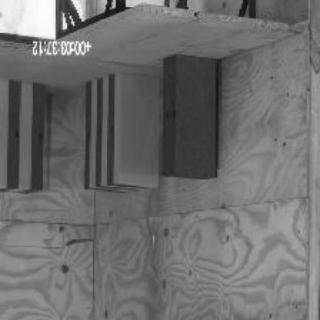Fire: (2, 4, 58, 42)
